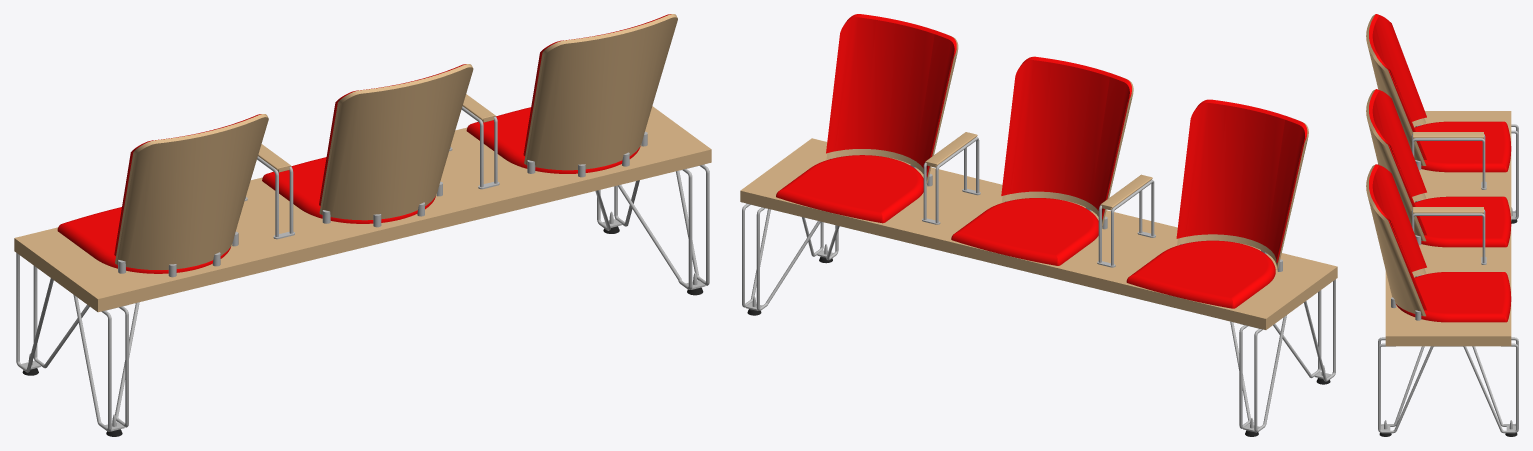
The picture shows the model from 3 angles, left to right: view 1: azimuth 30°, elevation 25°; view 2: azimuth 150°, elevation 25°; view 3: azimuth 270°, elevation 25°; orthographic projection. The views are drawn at different scales.
Parts seen in each view (by area): view 1: mesh1_mesh1-geometry, mesh77_mesh77-geometry, mesh47_mesh47-geometry, mesh107_mesh107-geometry, mesh49_mesh49-geometry, mesh23_mesh23-geometry, mesh93_mesh93-geometry, mesh43_mesh43-geometry, mesh79_mesh79-geometry, mesh67_mesh67-geometry, mesh13_mesh13-geometry; view 2: mesh1_mesh1-geometry, mesh105_mesh105-geometry, mesh3_mesh3-geometry, mesh91_mesh91-geometry, mesh93_mesh93-geometry, mesh43_mesh43-geometry, mesh79_mesh79-geometry, mesh49_mesh49-geometry, mesh23_mesh23-geometry, mesh13_mesh13-geometry, mesh67_mesh67-geometry, mesh107_mesh107-geometry (+4 smaller); view 3: mesh1_mesh1-geometry, mesh43_mesh43-geometry, mesh79_mesh79-geometry, mesh93_mesh93-geometry, mesh3_mesh3-geometry, mesh91_mesh91-geometry, mesh105_mesh105-geometry, mesh47_mesh47-geometry, mesh23_mesh23-geometry, mesh77_mesh77-geometry, mesh107_mesh107-geometry, mesh67_mesh67-geometry (+4 smaller).
Boxes of the visible parts, x1,y1,x2,y2 form: mesh1_mesh1-geometry: [14, 106, 711, 312]; mesh77_mesh77-geometry: [319, 64, 473, 220]; mesh47_mesh47-geometry: [524, 14, 677, 170]; mesh107_mesh107-geometry: [115, 114, 268, 269]; mesh49_mesh49-geometry: [16, 253, 139, 431]; mesh23_mesh23-geometry: [595, 164, 709, 289]; mesh93_mesh93-geometry: [57, 207, 230, 273]; mesh43_mesh43-geometry: [466, 107, 640, 173]; mesh79_mesh79-geometry: [262, 157, 435, 223]; mesh67_mesh67-geometry: [244, 156, 294, 239]; mesh13_mesh13-geometry: [449, 106, 499, 189]; mesh1_mesh1-geometry: [740, 138, 1337, 329]; mesh105_mesh105-geometry: [1176, 99, 1307, 262]; mesh3_mesh3-geometry: [826, 14, 956, 176]; mesh91_mesh91-geometry: [1001, 56, 1131, 219]; mesh93_mesh93-geometry: [1126, 240, 1275, 308]; mesh43_mesh43-geometry: [776, 155, 923, 223]; mesh79_mesh79-geometry: [951, 198, 1098, 265]; mesh49_mesh49-geometry: [1230, 279, 1335, 432]; mesh23_mesh23-geometry: [742, 203, 839, 310]; mesh13_mesh13-geometry: [922, 137, 980, 224]; mesh67_mesh67-geometry: [1097, 180, 1155, 267]; mesh107_mesh107-geometry: [1177, 121, 1308, 269]; mesh1_mesh1-geometry: [1385, 111, 1511, 346]; mesh43_mesh43-geometry: [1396, 272, 1511, 322]; mesh79_mesh79-geometry: [1414, 196, 1511, 247]; mesh93_mesh93-geometry: [1414, 121, 1511, 172]; mesh3_mesh3-geometry: [1369, 164, 1426, 310]; mesh91_mesh91-geometry: [1369, 89, 1426, 235]; mesh105_mesh105-geometry: [1369, 14, 1426, 159]; mesh47_mesh47-geometry: [1366, 164, 1426, 316]; mesh23_mesh23-geometry: [1378, 337, 1518, 433]; mesh77_mesh77-geometry: [1366, 89, 1426, 241]; mesh107_mesh107-geometry: [1366, 14, 1426, 165]; mesh67_mesh67-geometry: [1411, 134, 1486, 189].
Size of the model in its own units: 0.8817 by 0.3985 by 0.2527.
